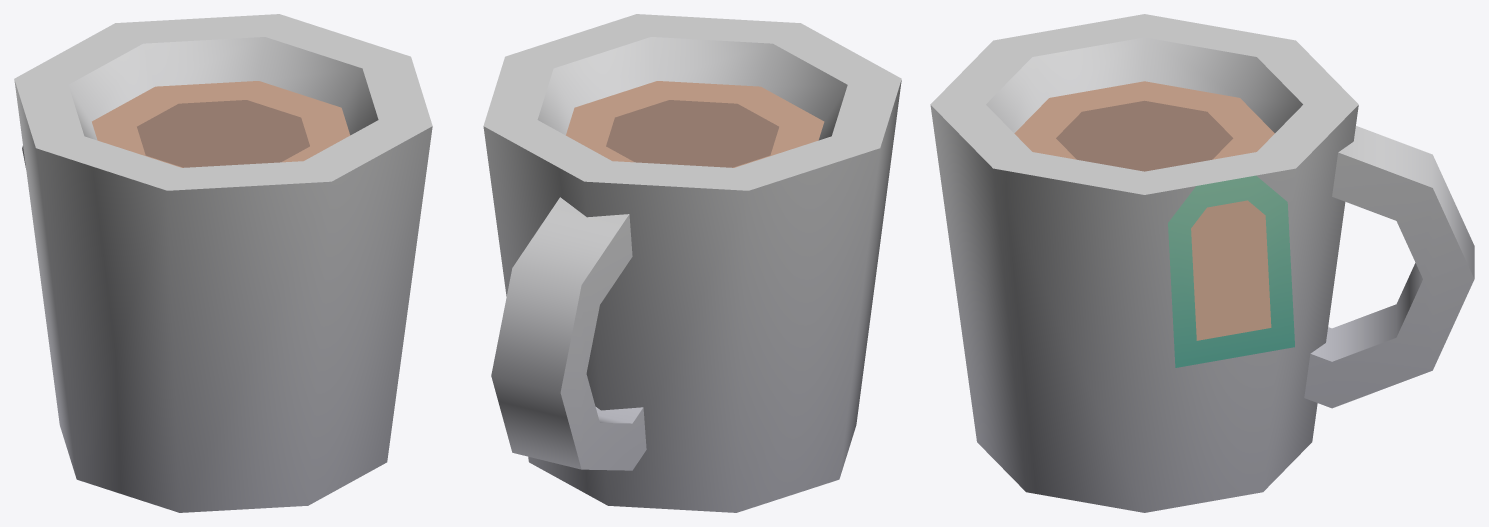
Rendered from cup-tea.glb.
3 renders of one model, left to right at view 1: azimuth 30°, elevation 25°; view 2: azimuth 150°, elevation 25°; view 3: azimuth 270°, elevation 25°, orthographic.
Parts seen in each view (by area): view 1: cup-tea; view 2: cup-tea; view 3: cup-tea.
Part boxes in pixels (left/top/right/bottom): cup-tea: left=14, top=14, right=432, bottom=512; cup-tea: left=483, top=14, right=901, bottom=512; cup-tea: left=930, top=14, right=1474, bottom=512.
Bounding box in the file's own units: 0.2369 × 0.2 × 0.2921.
